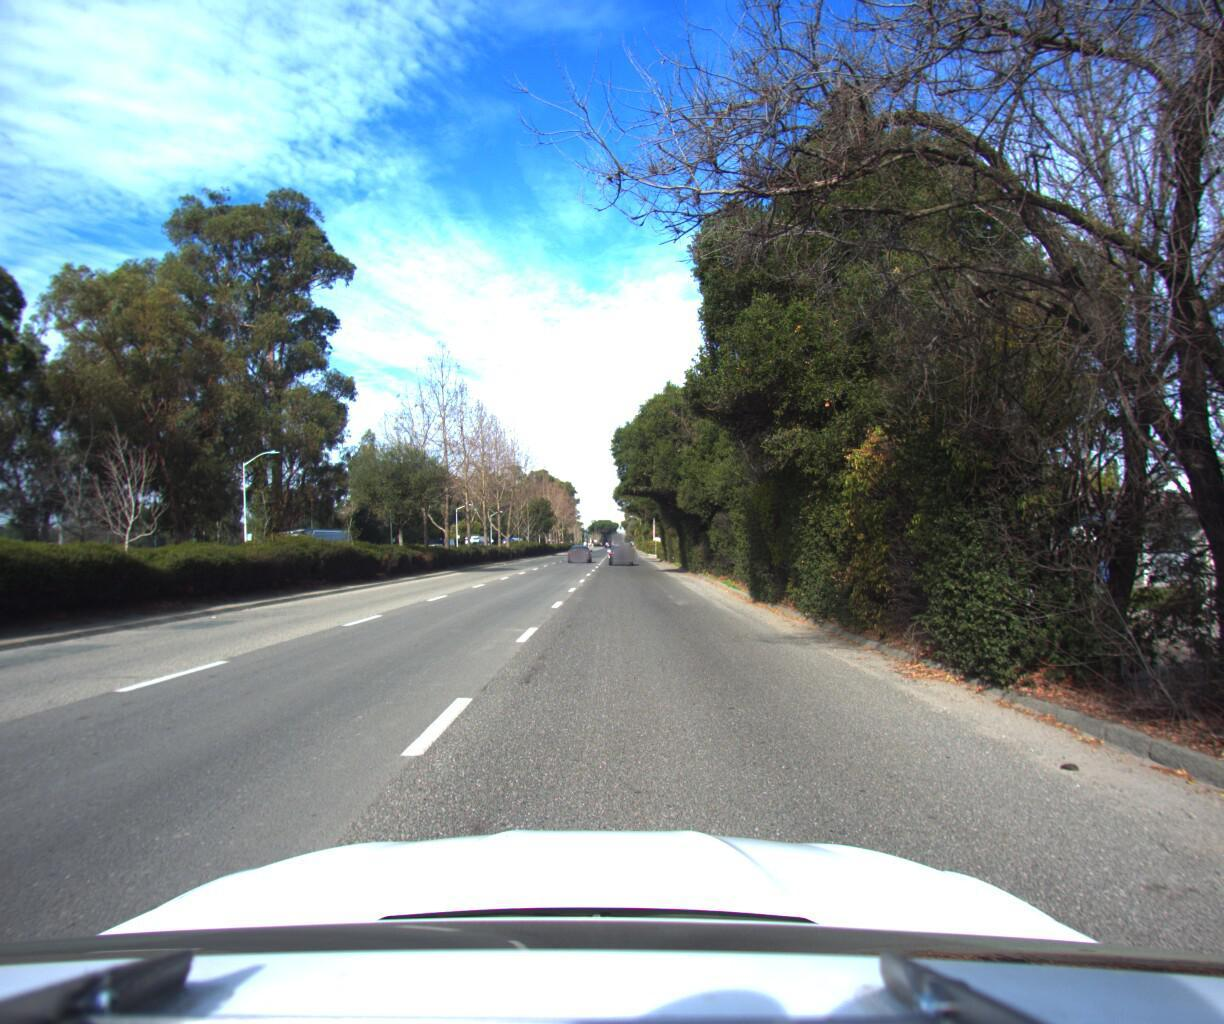car: (607, 535, 632, 556), (565, 536, 589, 555)
